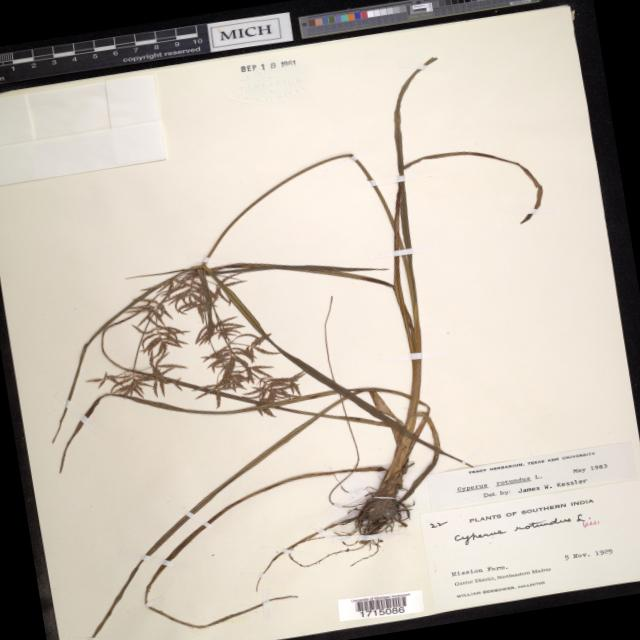cyperus: (62, 250, 314, 448)
